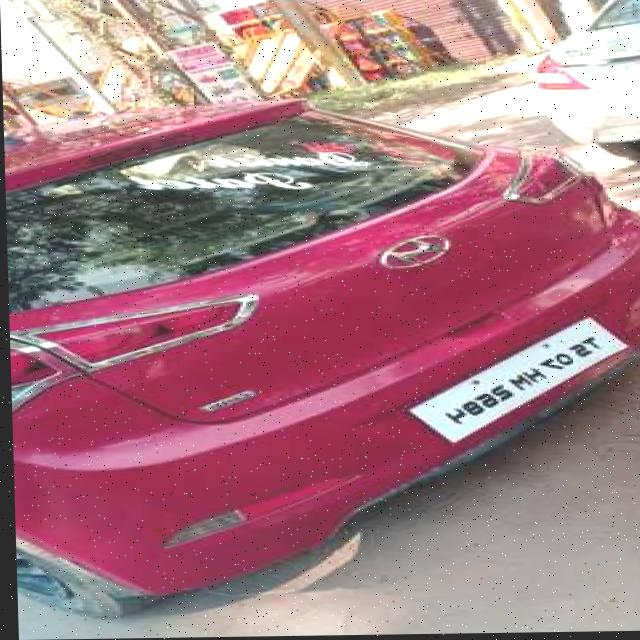plate: (400, 317, 632, 448)
